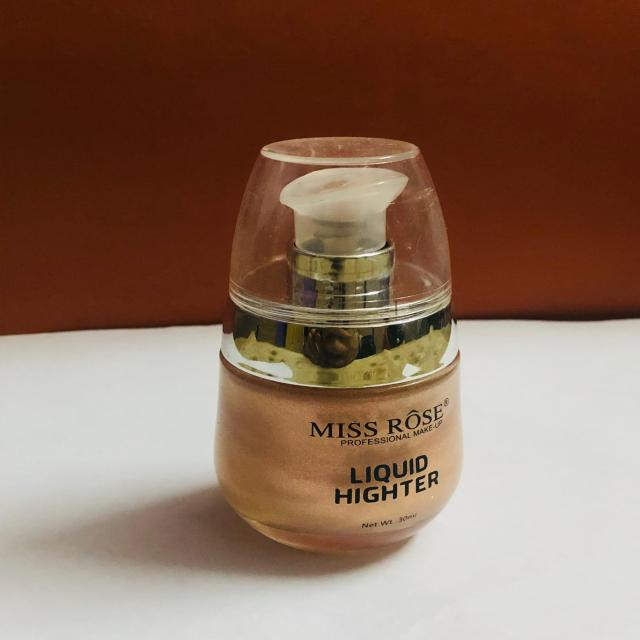highlighter: (216, 121, 467, 578)
